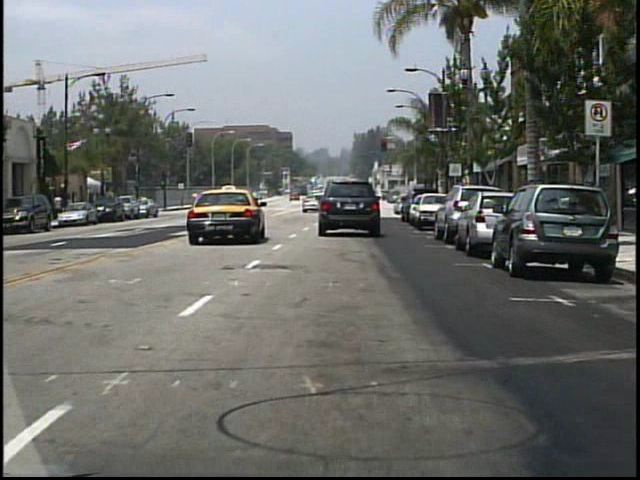person: (324, 191, 337, 213), (55, 193, 66, 218), (253, 190, 266, 211)
